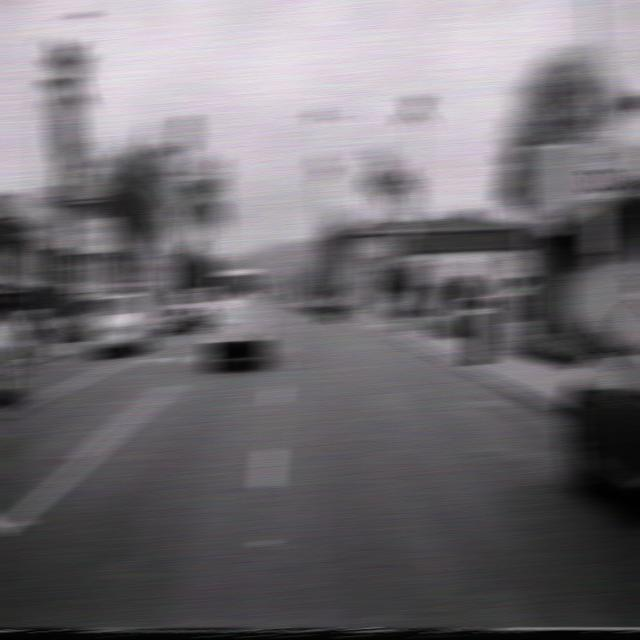speedLimit30: (578, 125, 620, 204)
